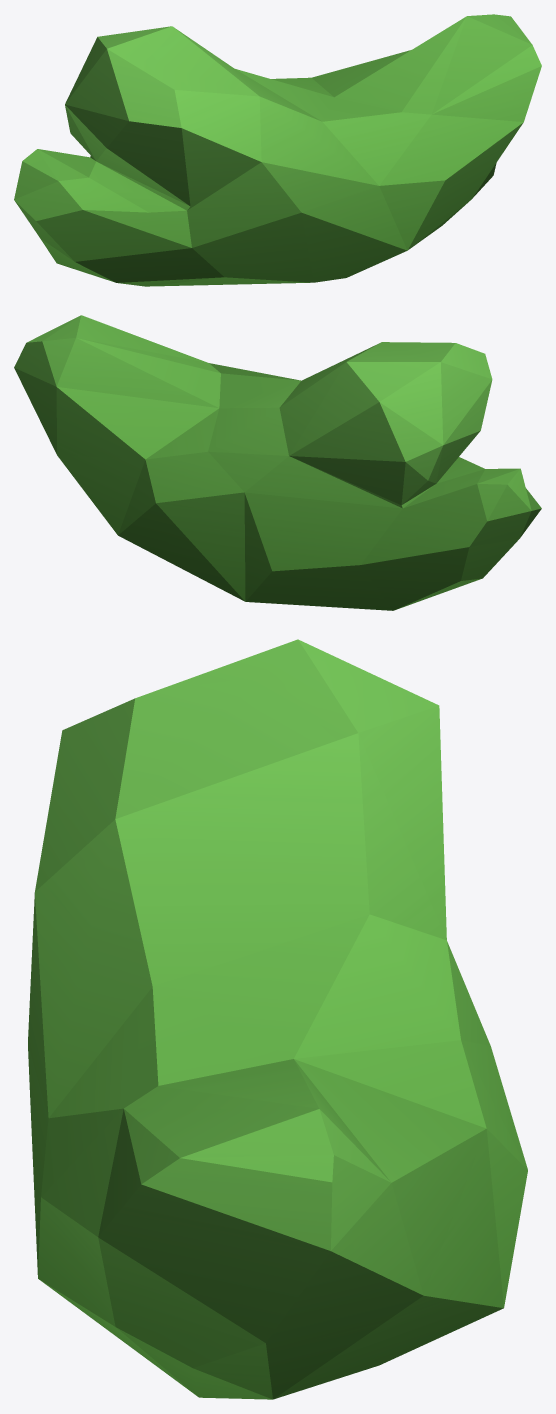
Rendered from bush_crescent_green.fbx.
3 renders of one model, top to bottom at view 1: azimuth 30°, elevation 25°; view 2: azimuth 150°, elevation 25°; view 3: azimuth 270°, elevation 25°, orthographic. The views are drawn at different scales.
Visible parts, largest first — view 1: bush_crescent_green; view 2: bush_crescent_green; view 3: bush_crescent_green.
Part boxes in pixels (<box>): bush_crescent_green: <box>14,14,541,286</box>; bush_crescent_green: <box>14,315,541,610</box>; bush_crescent_green: <box>28,639,527,1399</box>.
Bounding box in the file's own units: 4 × 1.8 × 1.7.
1 material, 1 textured.
